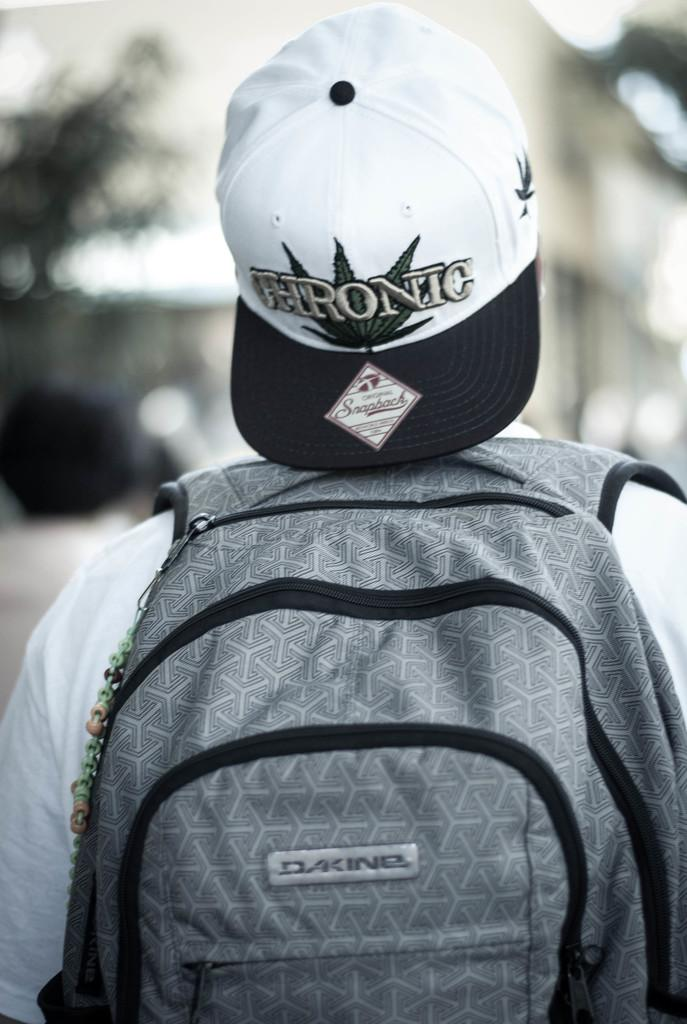Luggage-and-bags: (38, 433, 686, 1023)
